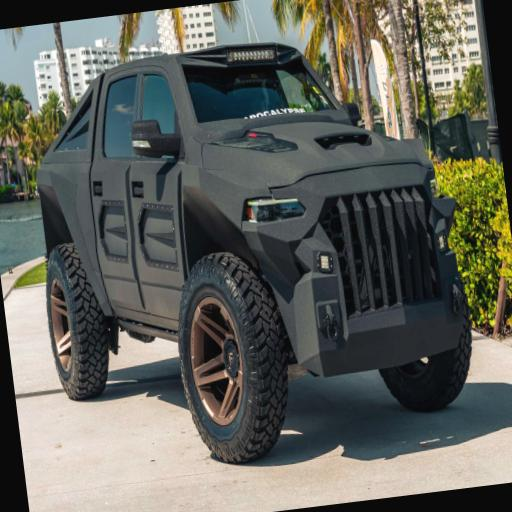suv: (37, 44, 471, 461)
